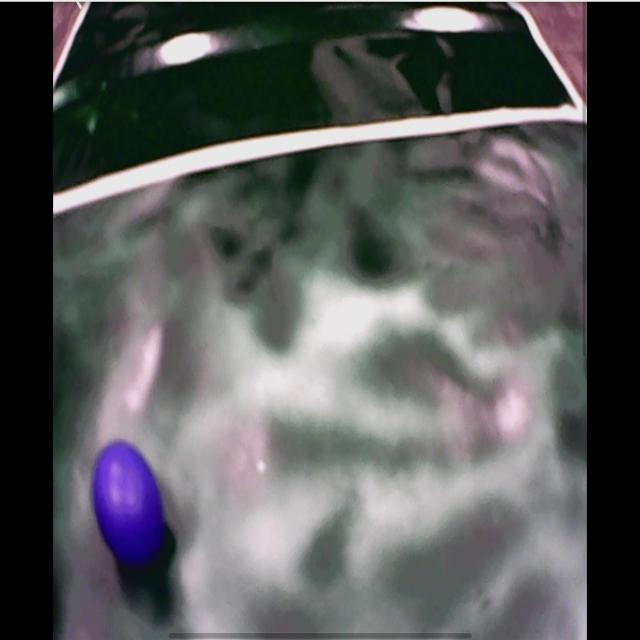ball: (93, 439, 166, 565)
